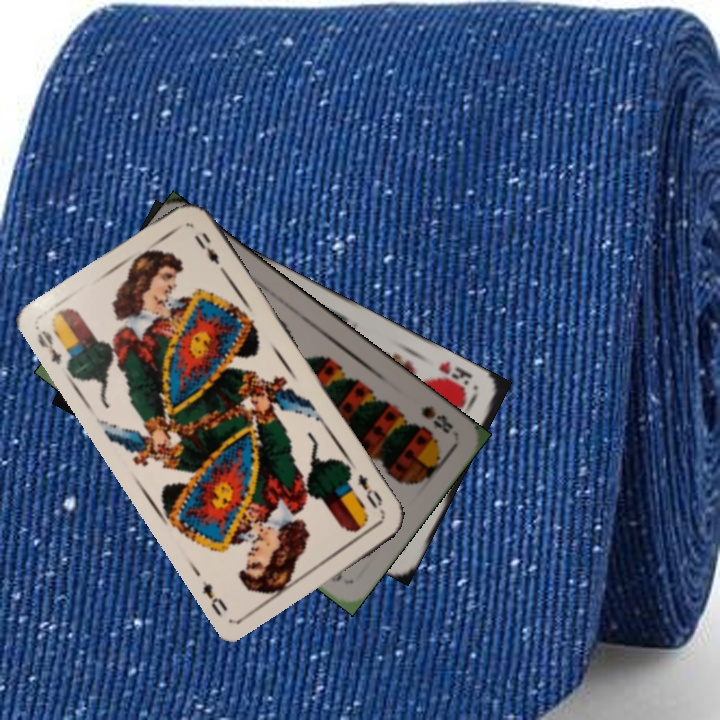EO: (353, 469, 386, 512), (33, 326, 65, 368)
HK: (426, 357, 475, 396)
S8: (416, 401, 456, 437)
